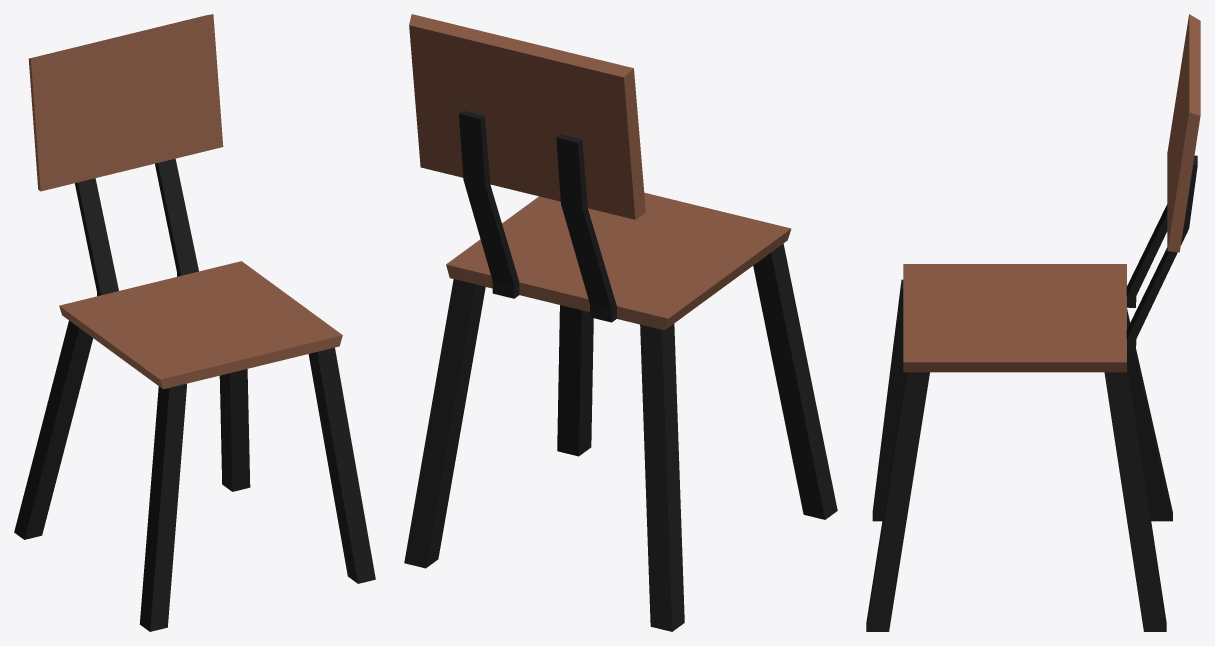
File: chair.fbx
3 renders of one model, left to right at view 1: azimuth 30°, elevation 25°; view 2: azimuth 150°, elevation 25°; view 3: azimuth 270°, elevation 25°, orthographic. The views are drawn at different scales.
Visible parts, largest first — view 1: Cube, Cube.001; view 2: Cube, Cube.001; view 3: Cube, Cube.001.
Part boxes in pixels (box(x1,y1,x2,y2)): Cube: box(28, 14, 342, 389); Cube.001: box(14, 158, 375, 631); Cube: box(409, 14, 791, 330); Cube.001: box(404, 110, 837, 631); Cube: box(903, 14, 1200, 372); Cube.001: box(866, 155, 1197, 631).
Bounding box in the file's own units: 72.12 × 143 × 84.75.
